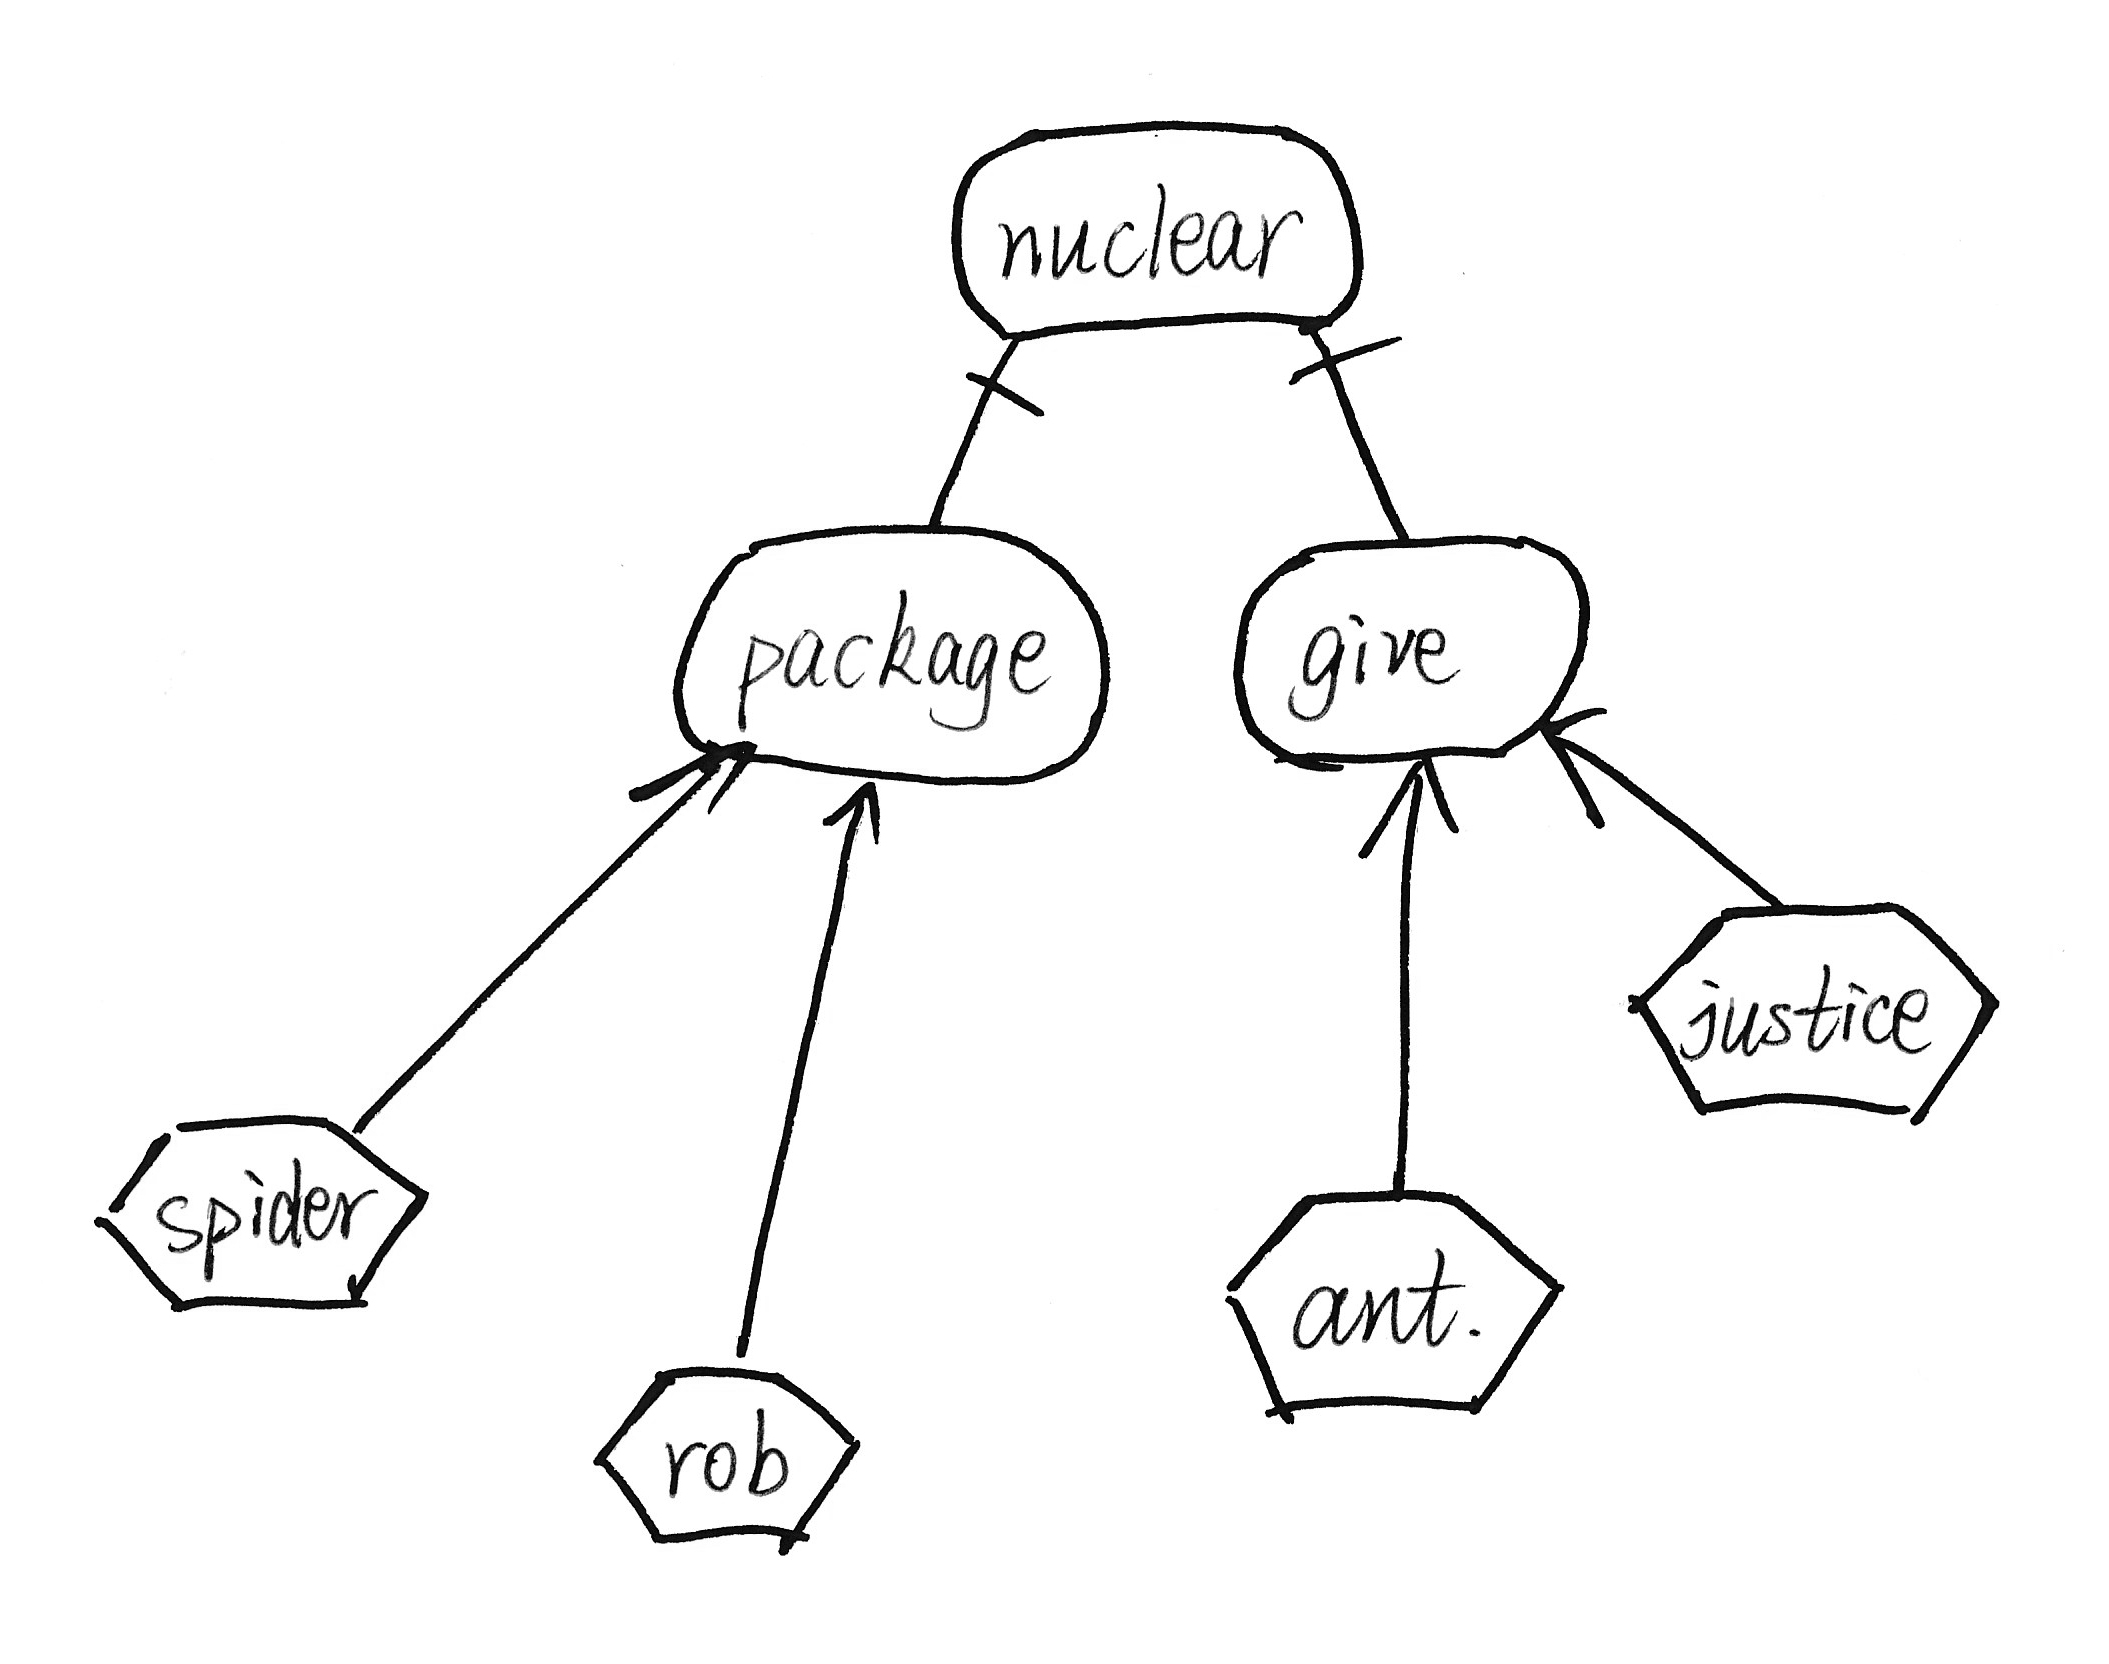and: (942, 358, 1060, 449), (1280, 325, 1421, 399)
arrow: (606, 728, 772, 830), (1524, 693, 1635, 839), (1351, 748, 1470, 877), (806, 764, 902, 858)
goal: (662, 507, 1126, 801), (940, 104, 1376, 349), (1221, 522, 1602, 781)
task: (1611, 888, 2017, 1140), (1210, 1174, 1585, 1441), (79, 1101, 452, 1323), (582, 1344, 876, 1572)
